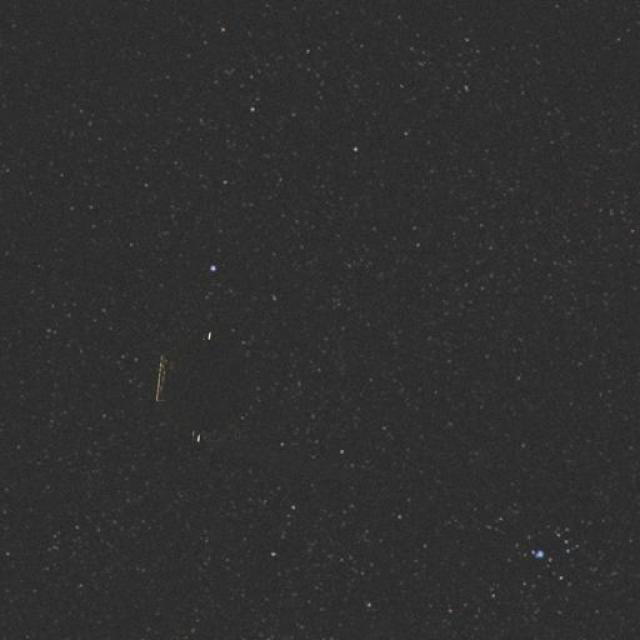earth_observation_sat_1: (128, 311, 284, 462)
